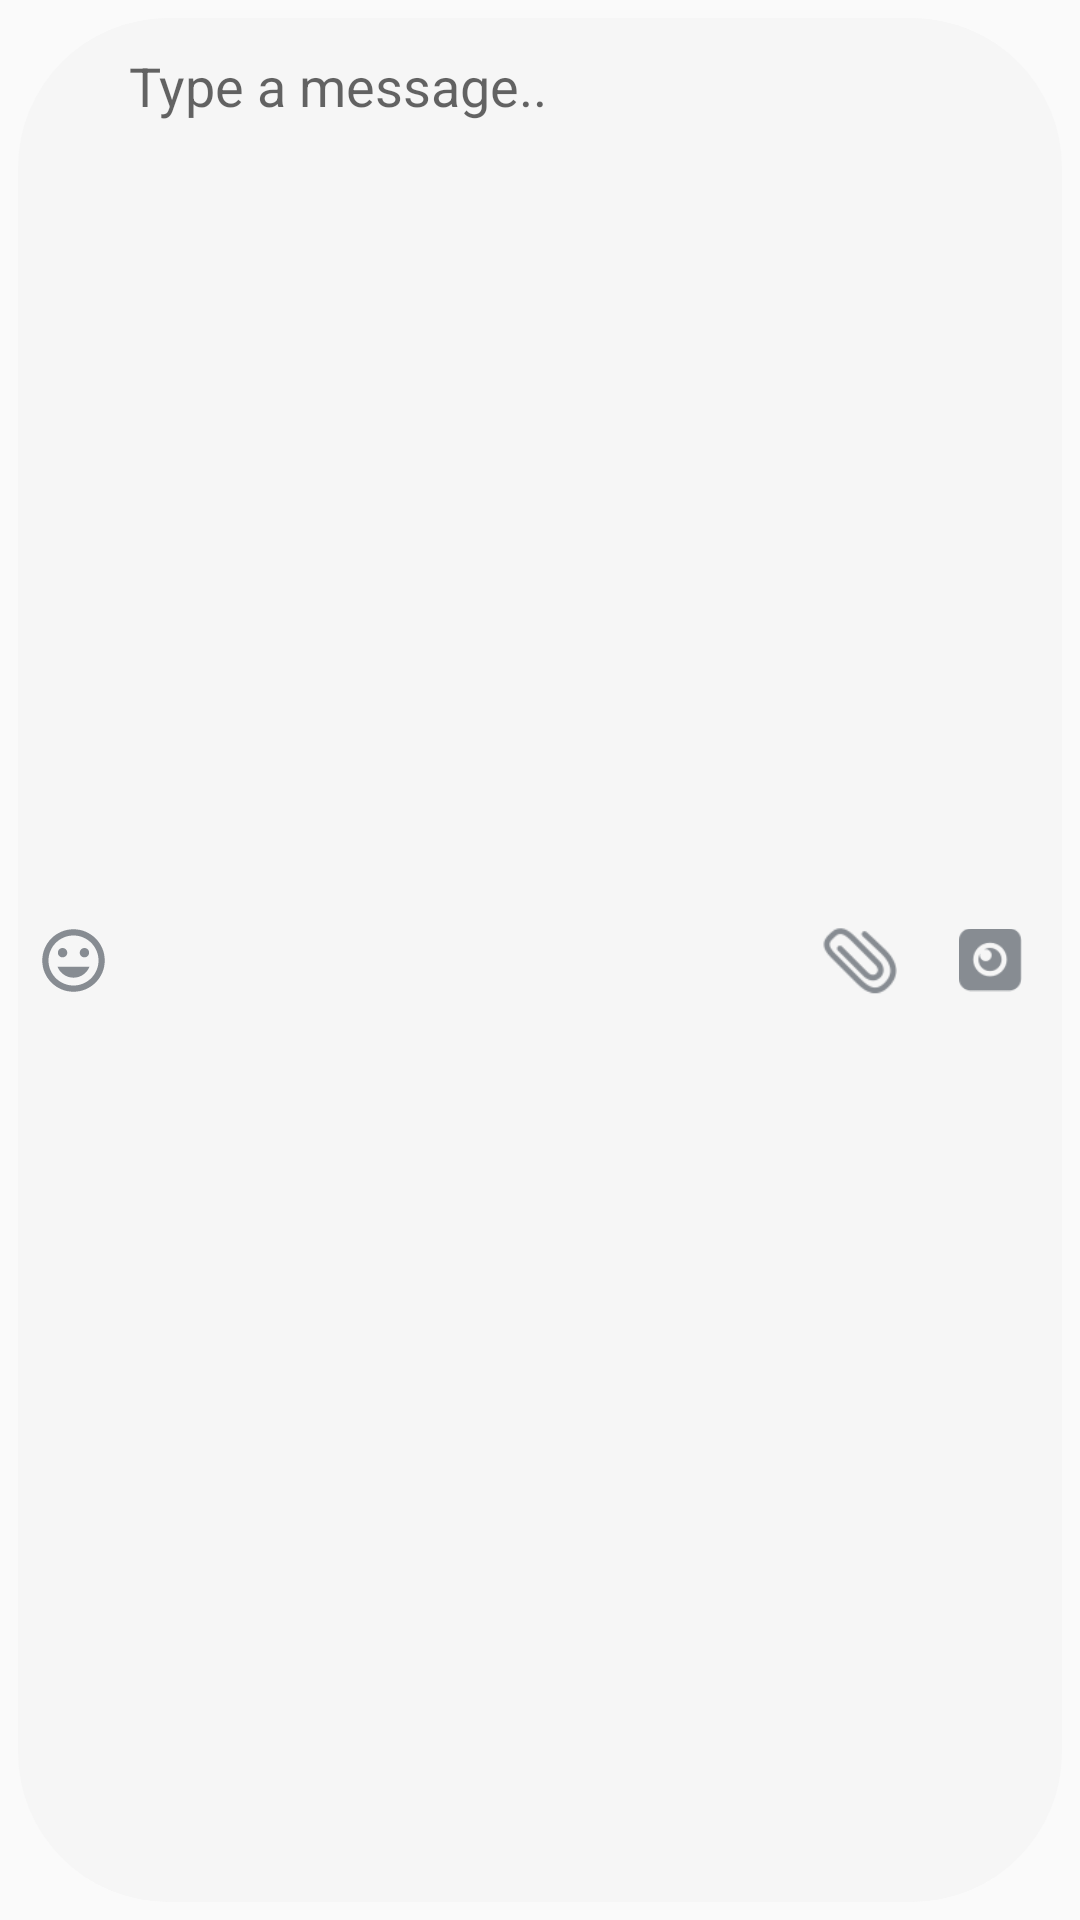

Named icons in this screenshot (1080 x 1920) and their bounding boxes, (x1, y1, x2, y2):
attach: (823, 928, 897, 994)
cam: (959, 929, 1021, 991)
insert emoticon: (42, 929, 105, 992)
